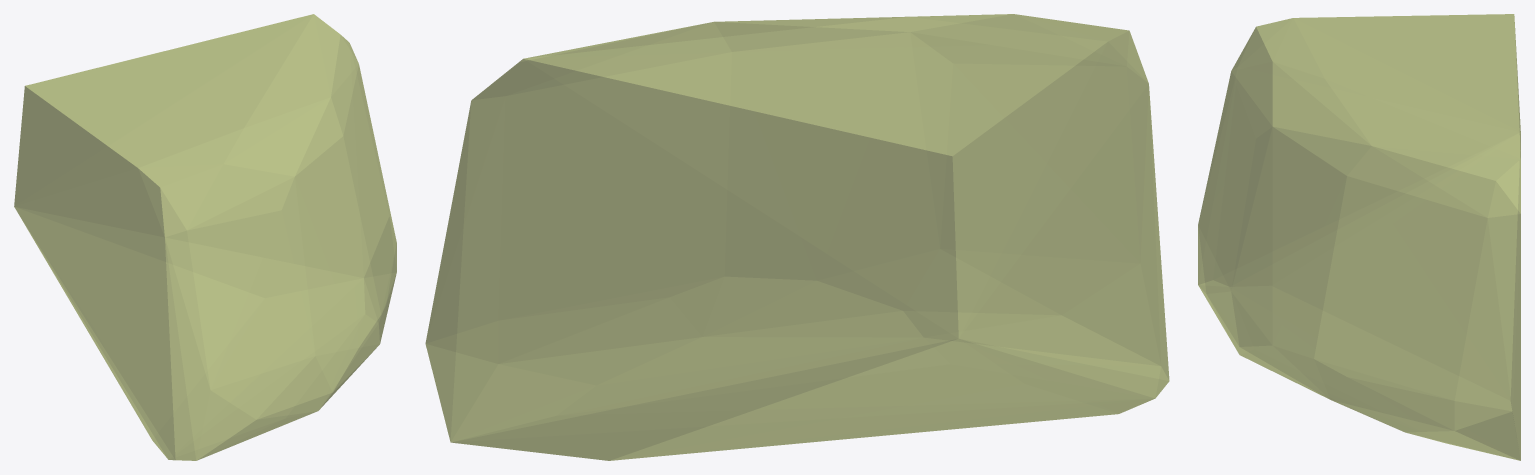
The picture shows the model from 3 angles, left to right: view 1: azimuth 30°, elevation 25°; view 2: azimuth 150°, elevation 25°; view 3: azimuth 270°, elevation 25°; orthographic projection. The views are drawn at different scales.
Visible parts, largest first — view 1: Shape_IndexedFaceSet.002_Shape_IndexedFaceSet.14049; view 2: Shape_IndexedFaceSet.002_Shape_IndexedFaceSet.14049; view 3: Shape_IndexedFaceSet.002_Shape_IndexedFaceSet.14049.
Boxes of the visible parts, bbox=[...] form: Shape_IndexedFaceSet.002_Shape_IndexedFaceSet.14049: bbox=[14, 14, 396, 460]; Shape_IndexedFaceSet.002_Shape_IndexedFaceSet.14049: bbox=[425, 14, 1169, 460]; Shape_IndexedFaceSet.002_Shape_IndexedFaceSet.14049: bbox=[1198, 14, 1520, 460].
Size of the model in its own units: 0.1444 by 0.1034 by 0.1083.
